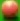pink: (0, 0, 20, 21)
